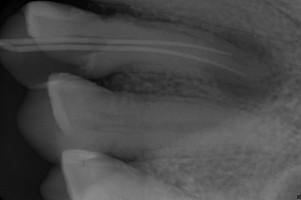Furcation Involvement: (215, 27, 283, 105)
